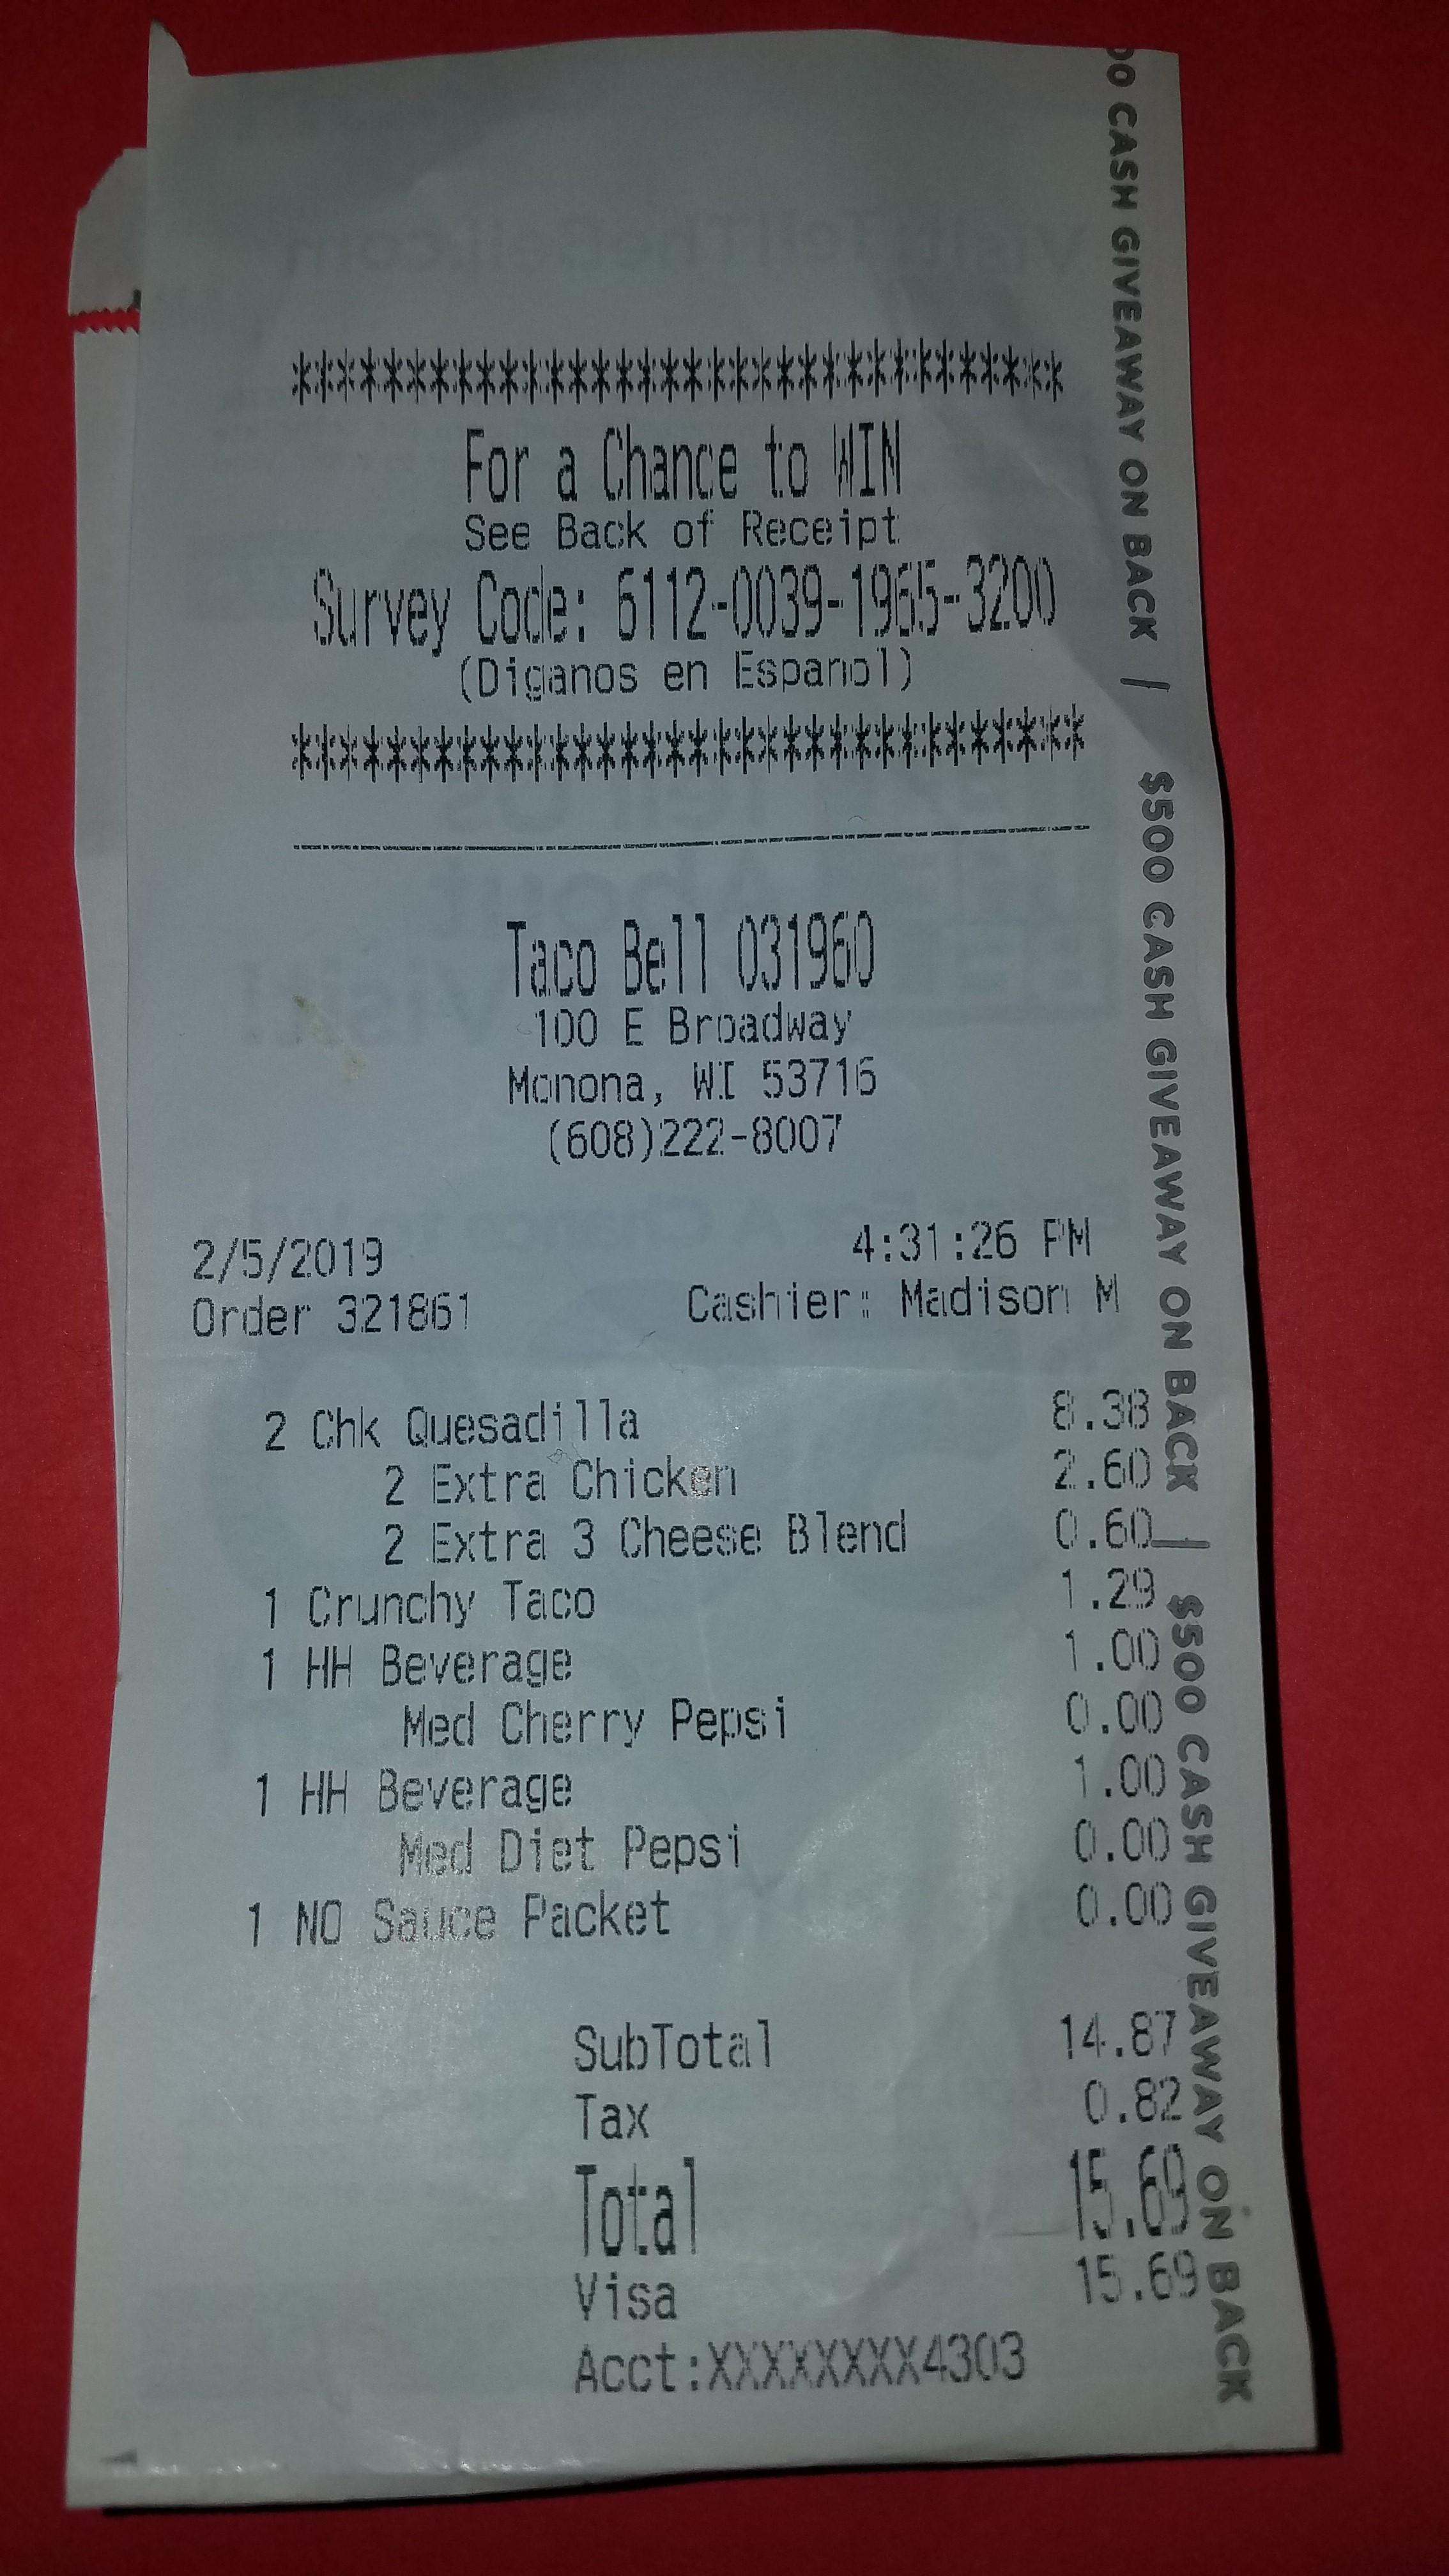Taco Bell: (467, 869, 732, 1017)
